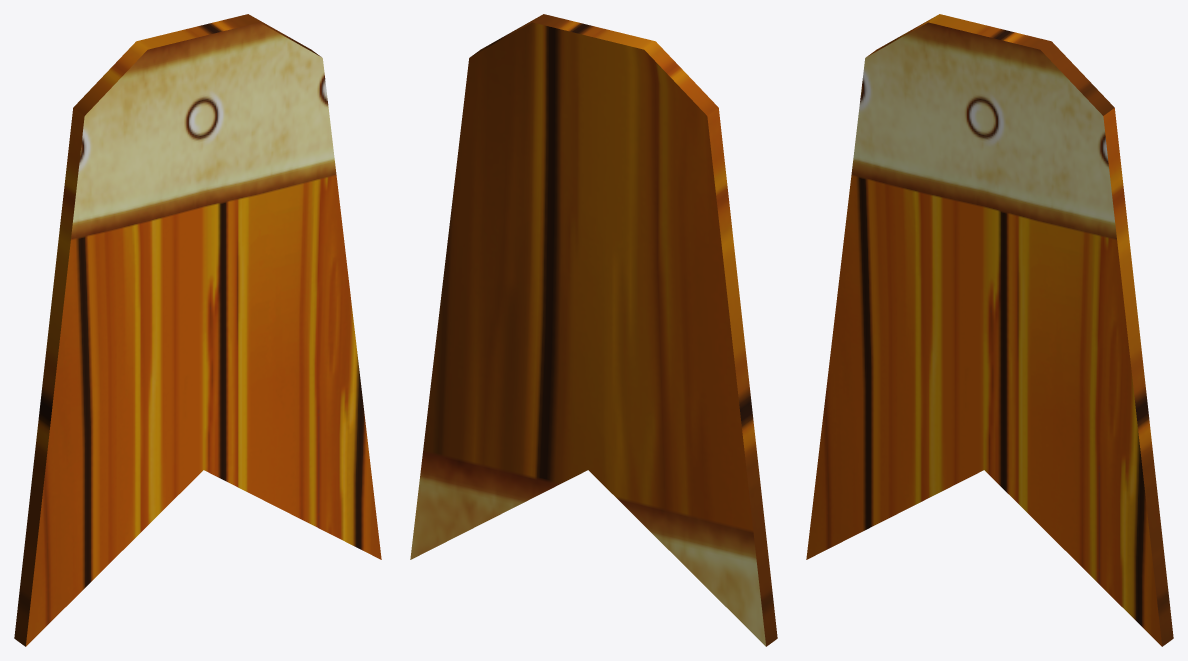
The model's file is Tag_Special_08.fbx.
The picture shows the model from 3 angles, left to right: view 1: azimuth 30°, elevation 25°; view 2: azimuth 150°, elevation 25°; view 3: azimuth 330°, elevation 25°; orthographic projection.
Parts seen in each view (by area): view 1: Tag_Special_08; view 2: Tag_Special_08; view 3: Tag_Special_08.
Boxes of the visible parts, <box> form: Tag_Special_08: <box>14,14,381,646</box>; Tag_Special_08: <box>410,14,777,646</box>; Tag_Special_08: <box>806,14,1173,646</box>.
Bounding box in the file's own units: 17.93 × 27.32 × 1.
Materials: 1 (1 with a texture image).
